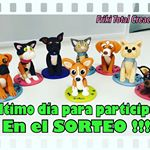other: (57, 51, 106, 105)
